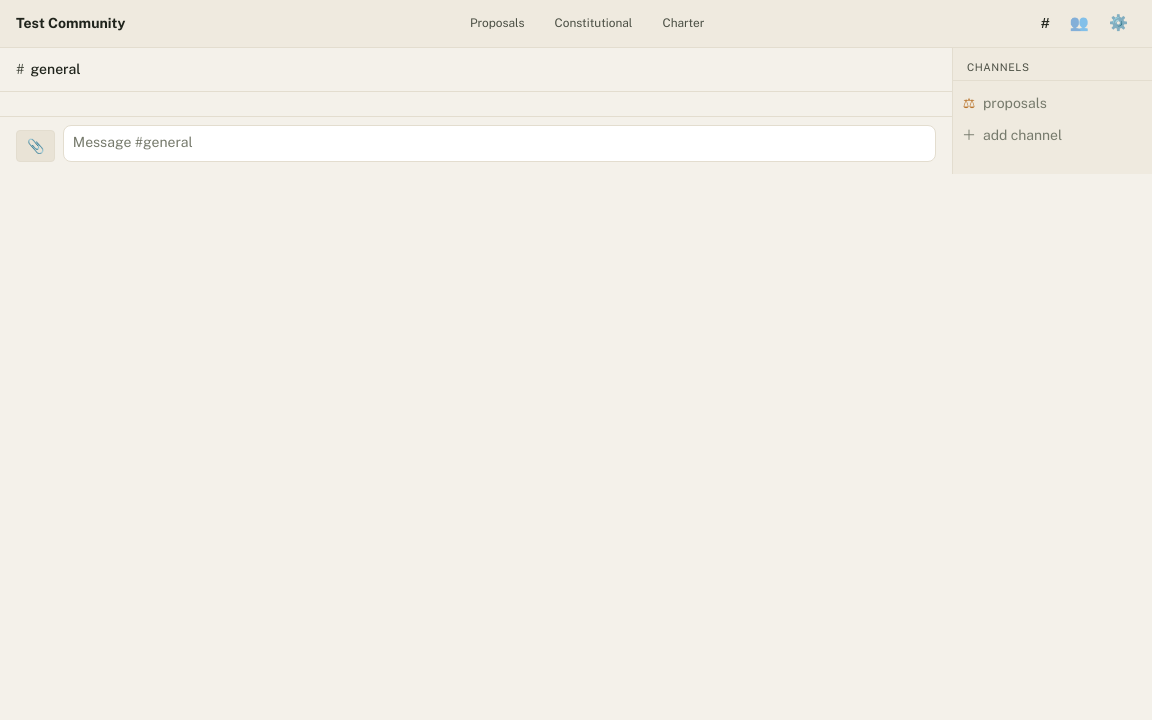
CommunityView › Constitutional tab mounts Tier3ProposalPanel when votingAdapter is provided
# Click the Constitutional tab.
What coordinates should you click on to do the following:
click the button "Constitutional"
I would click on:
 (593, 23)
Its box is [542, 10, 645, 37].
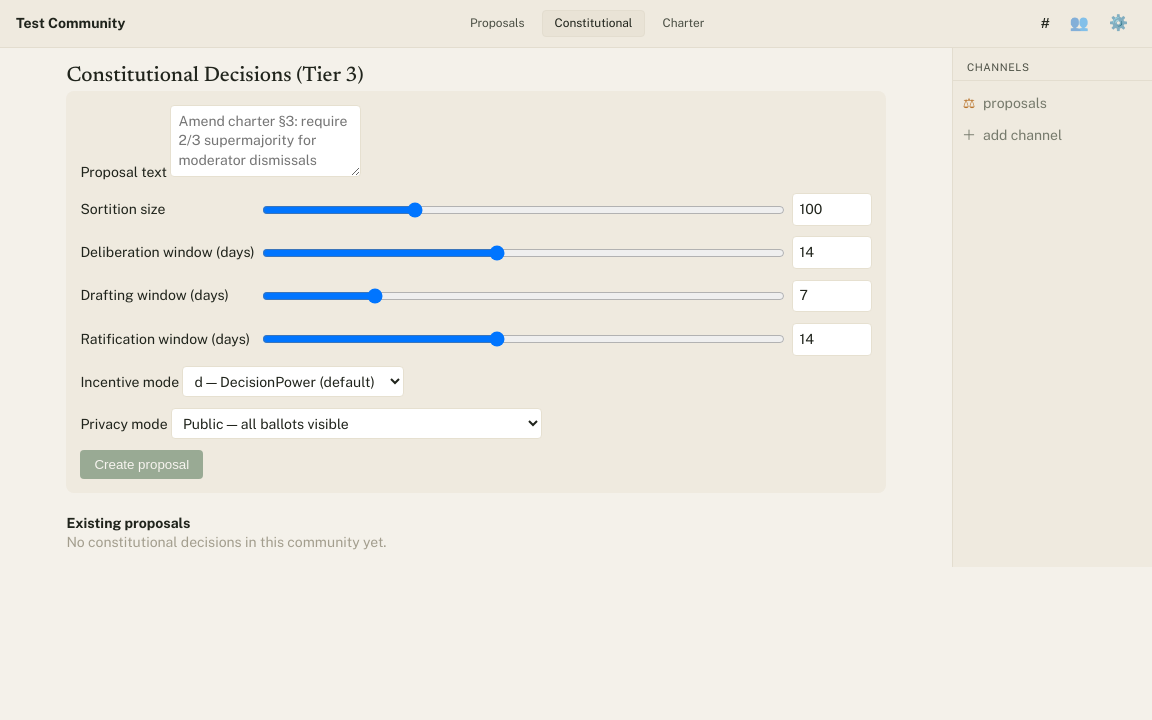
Check: the element with class "tier3-panel" is shown, box [52, 48, 900, 567]
